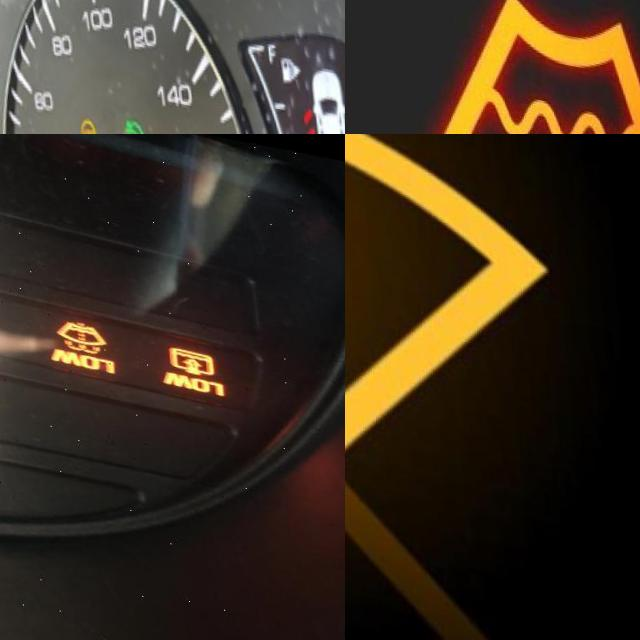Washer Fluid: (345, 134, 558, 490), (410, 0, 640, 134), (49, 305, 104, 346)
